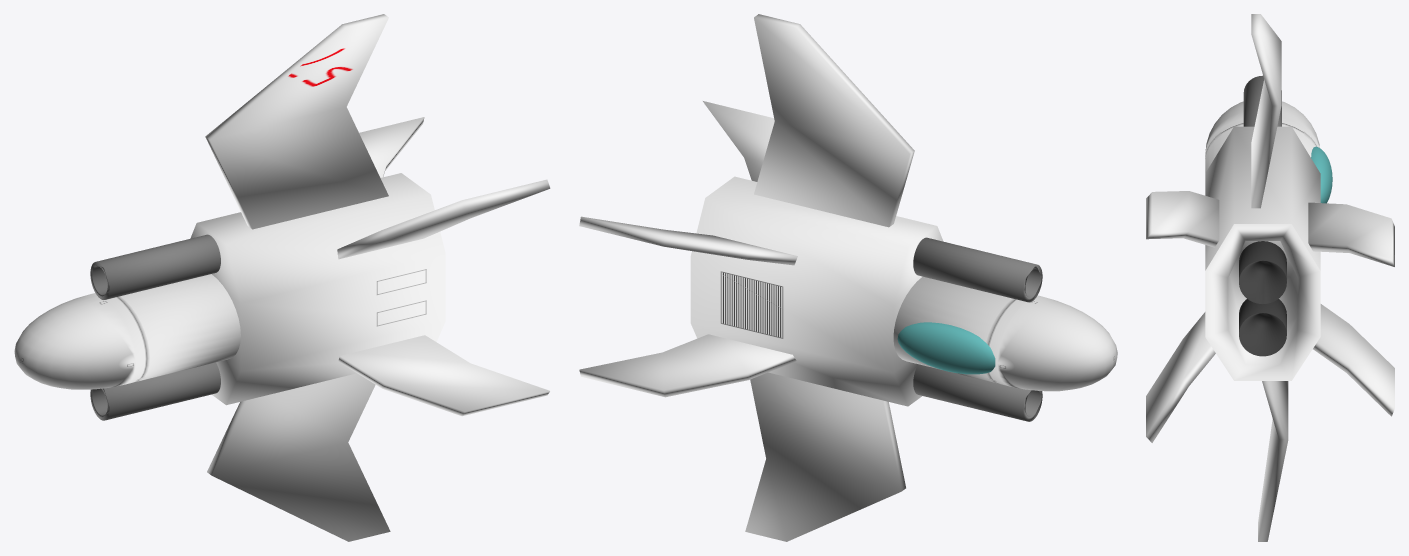
Rendered from StarFighter(Model).fbx.
The picture shows the model from 3 angles, left to right: view 1: azimuth 30°, elevation 25°; view 2: azimuth 150°, elevation 25°; view 3: azimuth 270°, elevation 25°; orthographic projection. The views are drawn at different scales.
Parts seen in each view (by area): view 1: Ship_Body; view 2: Ship_Body; view 3: Ship_Body.
Part boxes in pixels (x1=…): Ship_Body: x1=14, y1=14, x2=550, y2=541; Ship_Body: x1=579, y1=14, x2=1117, y2=541; Ship_Body: x1=1146, y1=14, x2=1394, y2=541.
Bounding box in the file's own units: 111 × 116 × 51.76.
